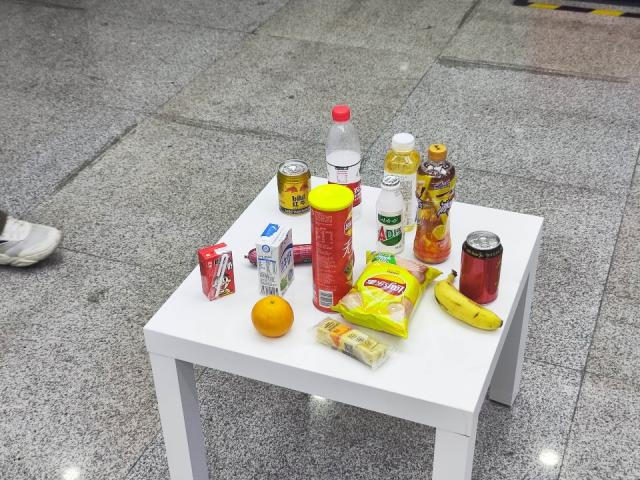Canned_drinks: (461, 228, 504, 307), (276, 158, 311, 215)
bottle: (416, 142, 454, 262), (329, 102, 364, 195), (378, 175, 406, 256)
cylinder: (312, 186, 355, 302)
drink_box: (194, 239, 238, 316), (258, 213, 294, 299)
